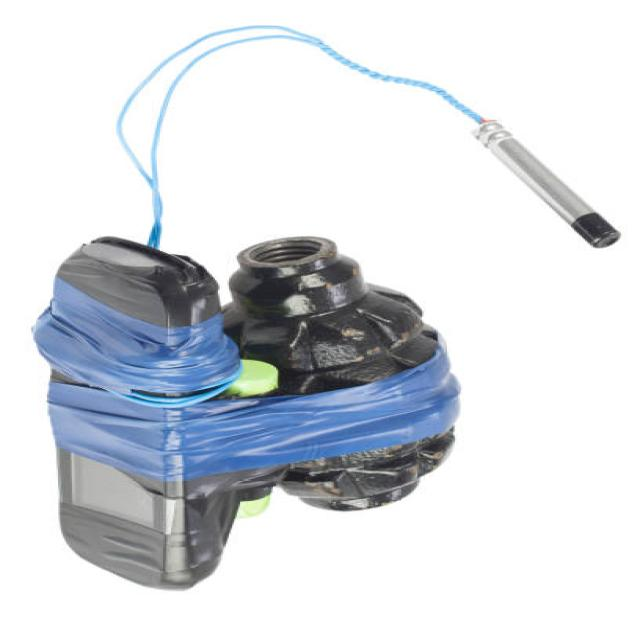grenade: (212, 234, 463, 512)
